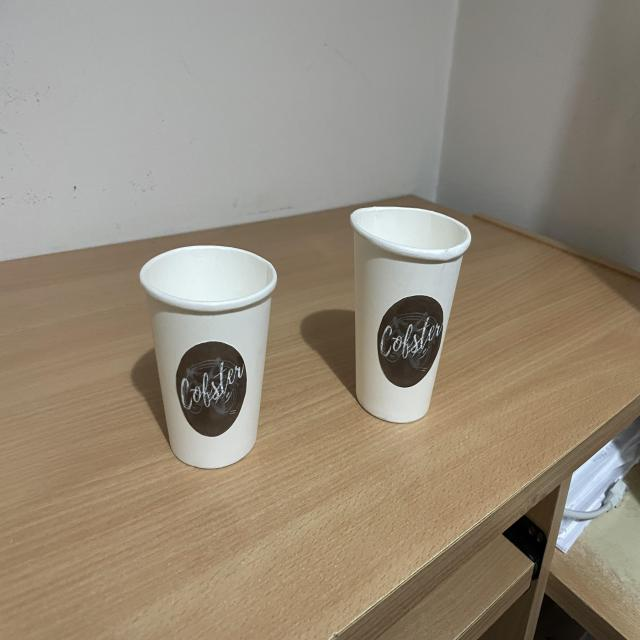medium: (340, 186, 478, 430)
small: (133, 223, 290, 477)
